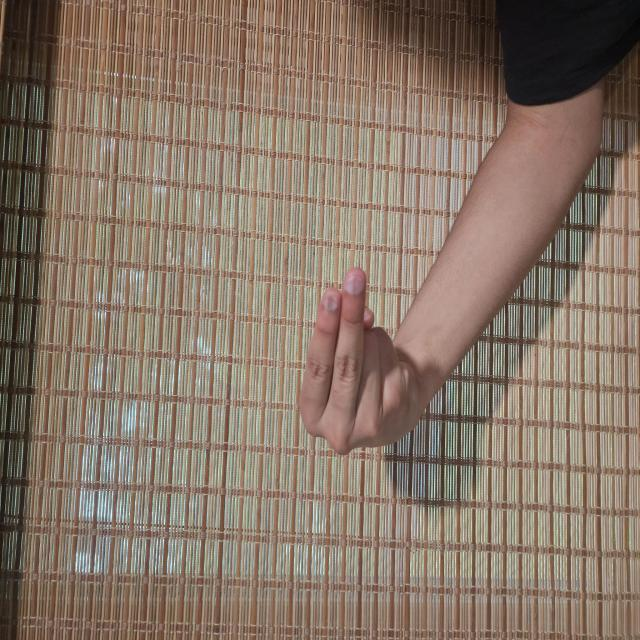H: (136, 394, 280, 583)
